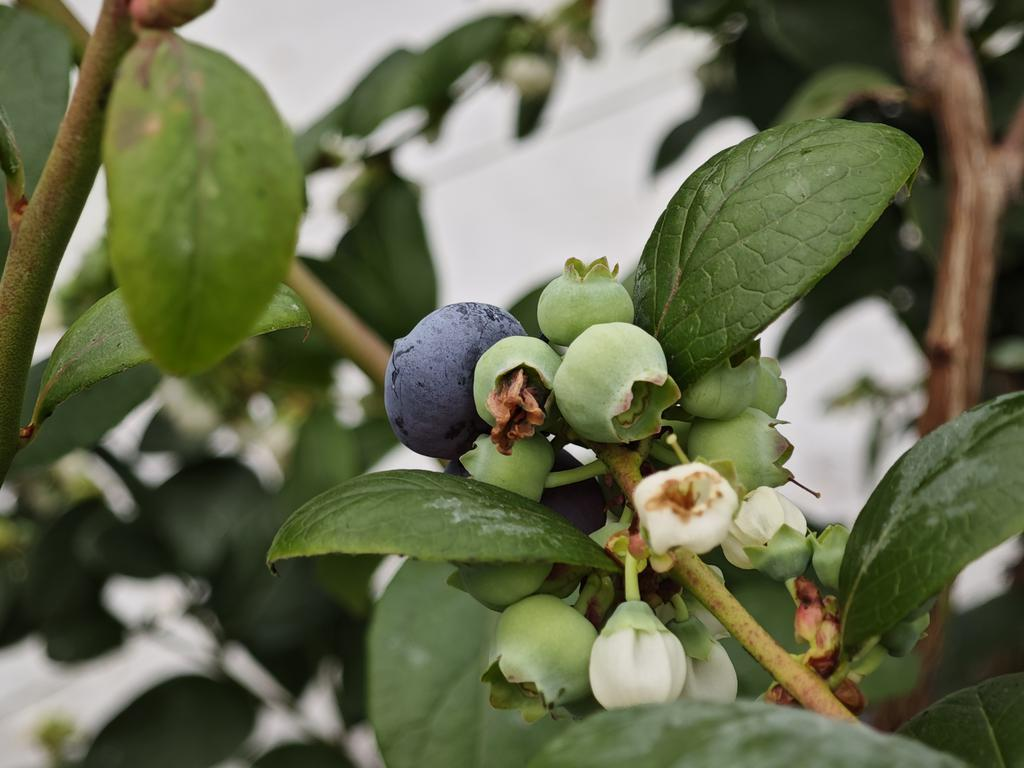RipeBlueBerry: (382, 299, 531, 461)
UnripeBlueBerry: (551, 319, 679, 446), (485, 592, 599, 720), (472, 333, 559, 437)
